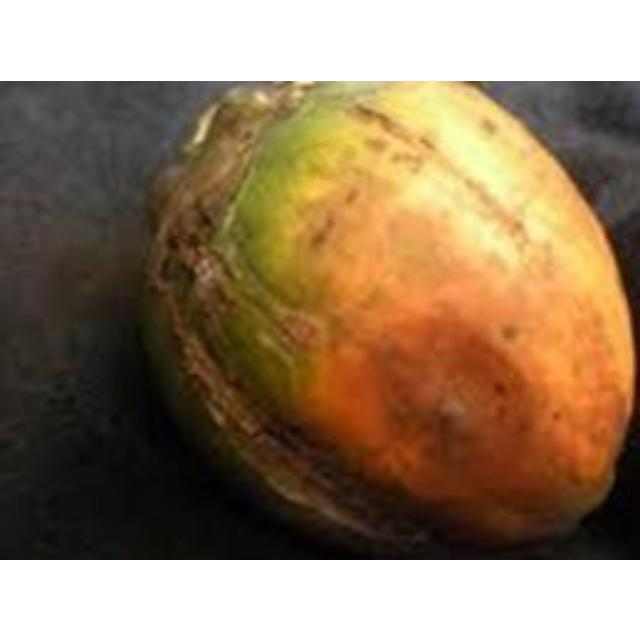damaged: (138, 80, 638, 557)
